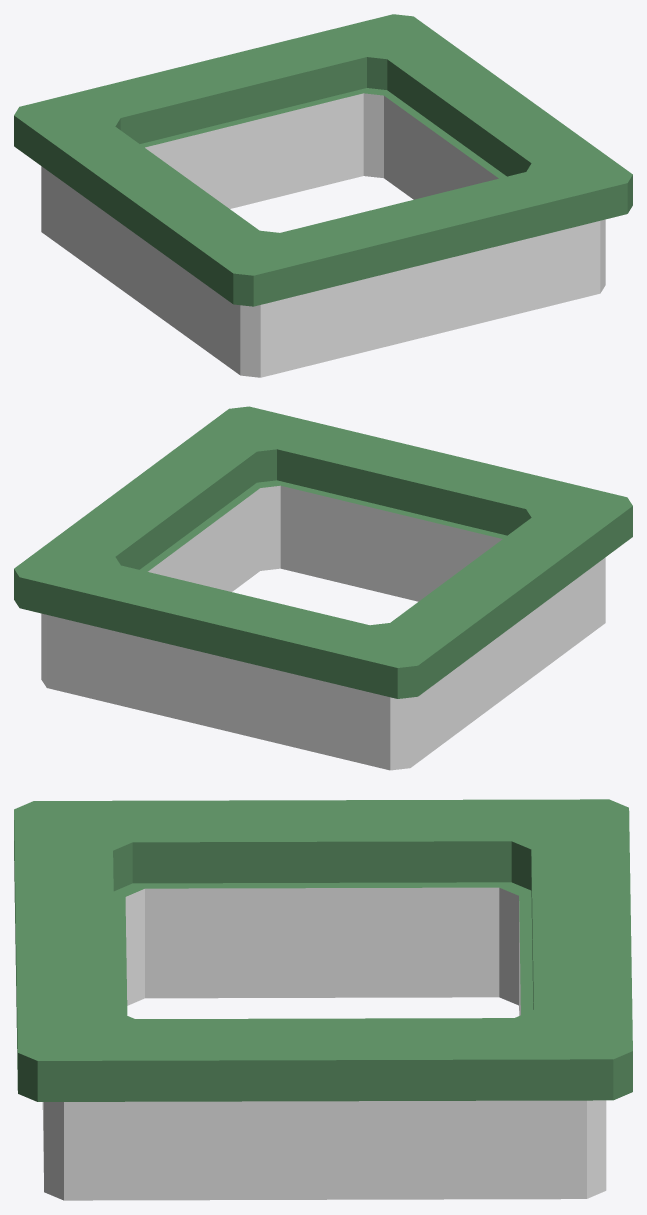
File: RBin4.fbx
3 views of the same model, one above another, from view 1: azimuth 30°, elevation 25°; view 2: azimuth 150°, elevation 25°; view 3: azimuth 270°, elevation 25° (orthographic). The views are drawn at different scales.
Parts seen in each view (by area): view 1: pPipe4; view 2: pPipe4; view 3: pPipe4.
Boxes of the visible parts, box(x1,y1,x2,y2) form: pPipe4: box(14, 14, 632, 377); pPipe4: box(14, 406, 632, 770); pPipe4: box(14, 799, 632, 1200).
Bounding box in the file's own units: 49.2 × 13.23 × 49.2.
